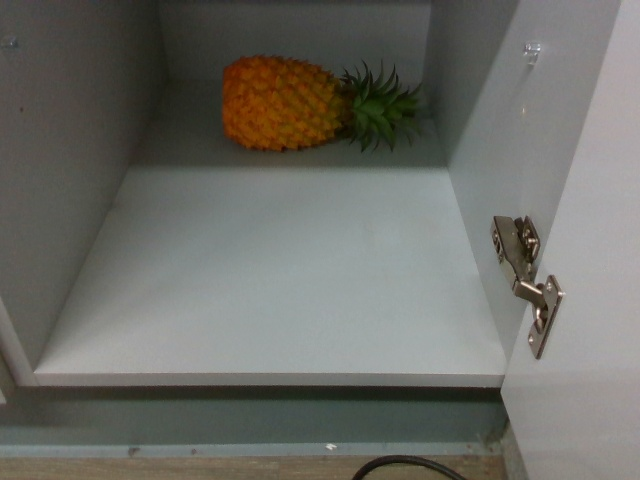pineapple: (218, 45, 434, 157)
